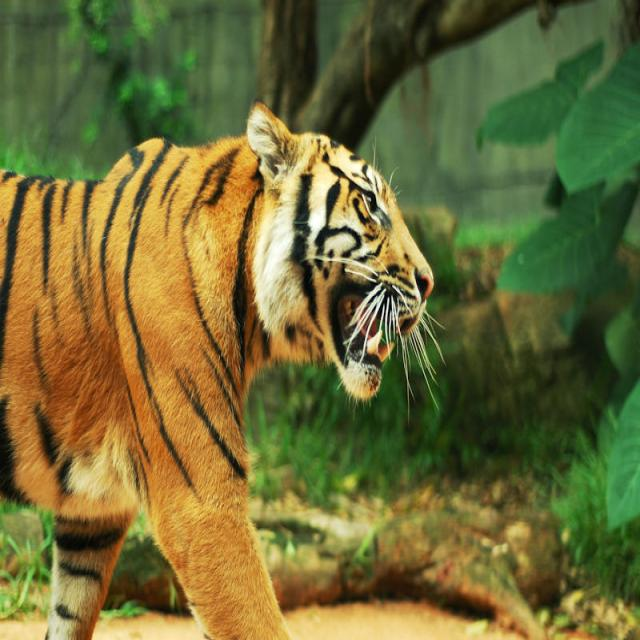Tiger: (0, 108, 437, 634)
